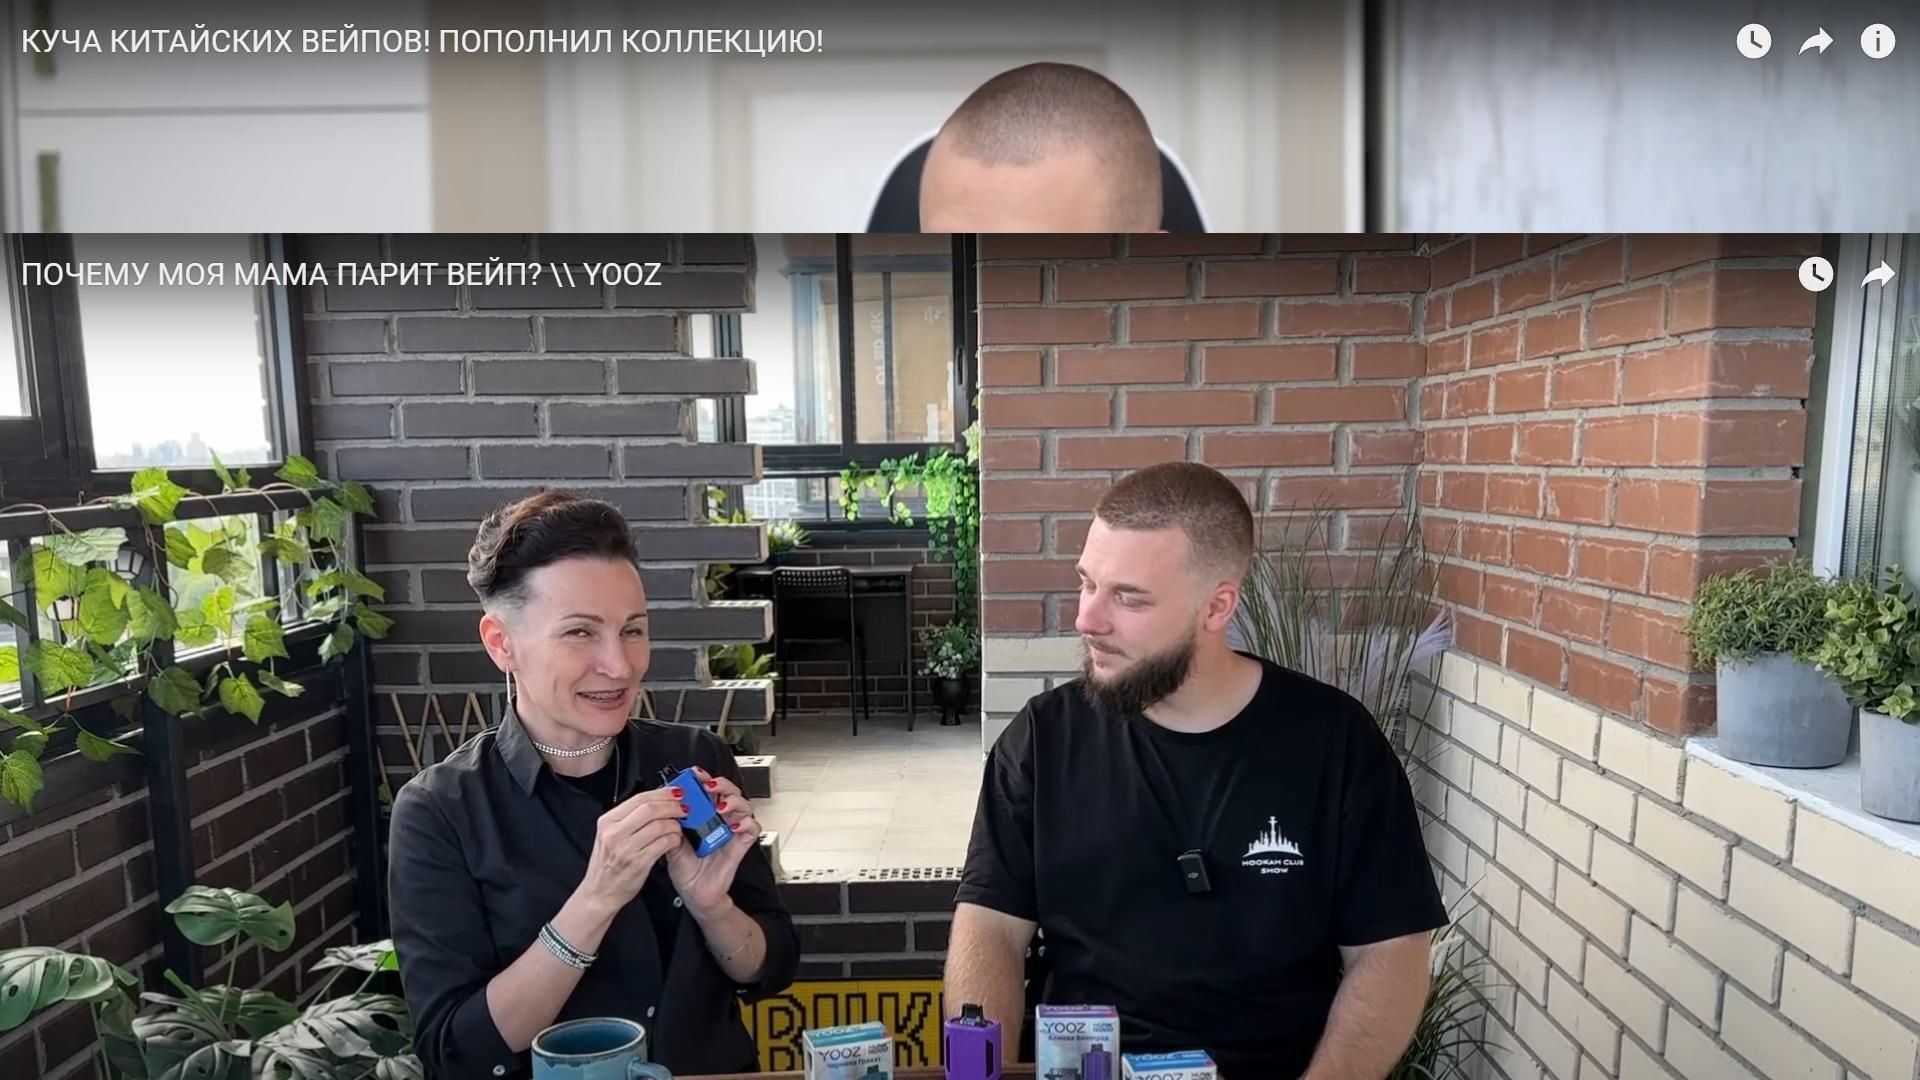Vape: (658, 762, 733, 857), (944, 1004, 1001, 1079)
